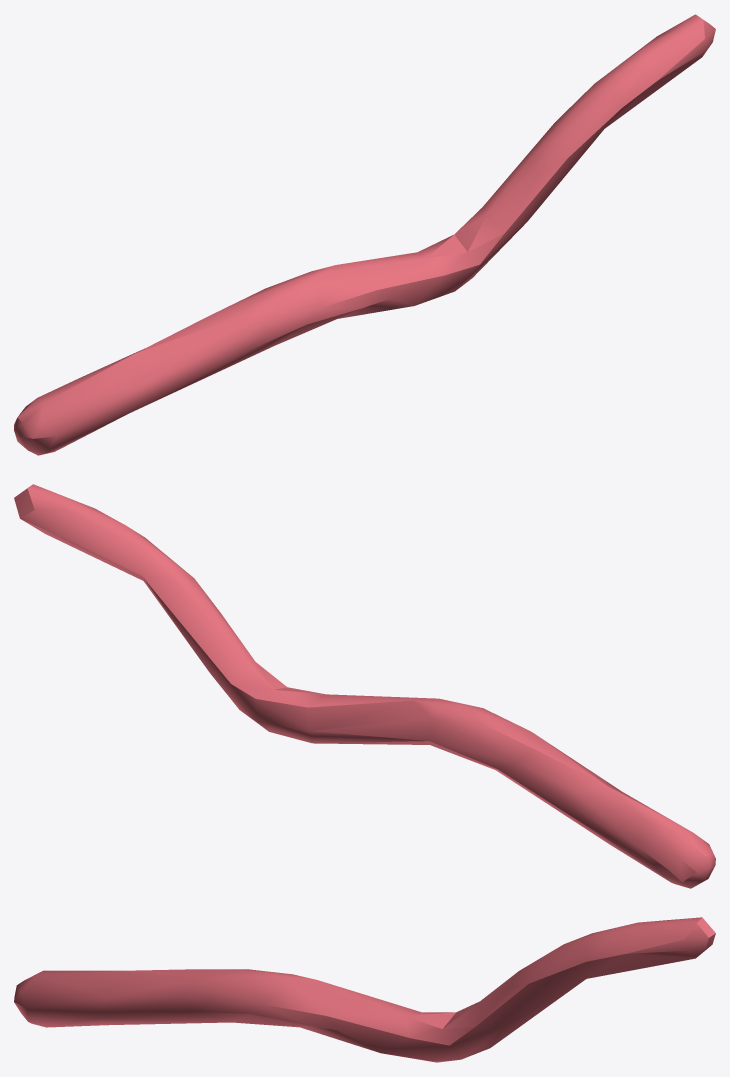
The model's file is fma3818_fj2668.glb.
The picture shows the model from 3 angles, top to bottom: view 1: azimuth 30°, elevation 25°; view 2: azimuth 150°, elevation 25°; view 3: azimuth 330°, elevation 25°; orthographic projection. The views are drawn at different scales.
Parts seen in each view (by area): view 1: FMA3818_FJ2668; view 2: FMA3818_FJ2668; view 3: FMA3818_FJ2668.
Boxes of the visible parts, bbox=[...] form: FMA3818_FJ2668: bbox=[14, 14, 715, 455]; FMA3818_FJ2668: bbox=[14, 484, 715, 888]; FMA3818_FJ2668: bbox=[14, 917, 715, 1062].
Bounding box in the file's own units: 0.012 × 0.00421 × 0.00147.
